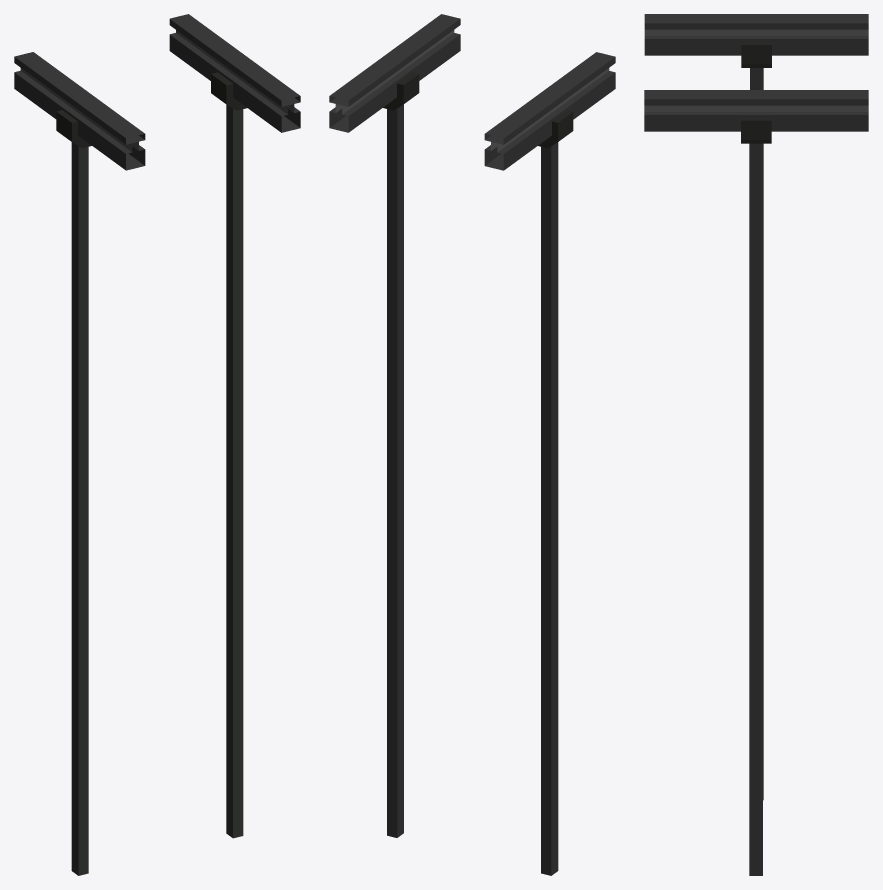
File: railroad _normal_.fbx
3 views of the same model, side by side, from view 1: azimuth 30°, elevation 25°; view 2: azimuth 150°, elevation 25°; view 3: azimuth 270°, elevation 25° (orthographic).
Visible parts, largest first — view 1: railroad; view 2: railroad; view 3: railroad.
Boxes of the visible parts, x1,y1,x2,y2 form: railroad: [14, 14, 300, 875]; railroad: [329, 14, 615, 875]; railroad: [644, 14, 868, 875].
Bounding box in the file's own units: 1.92 × 7.67 × 2.
